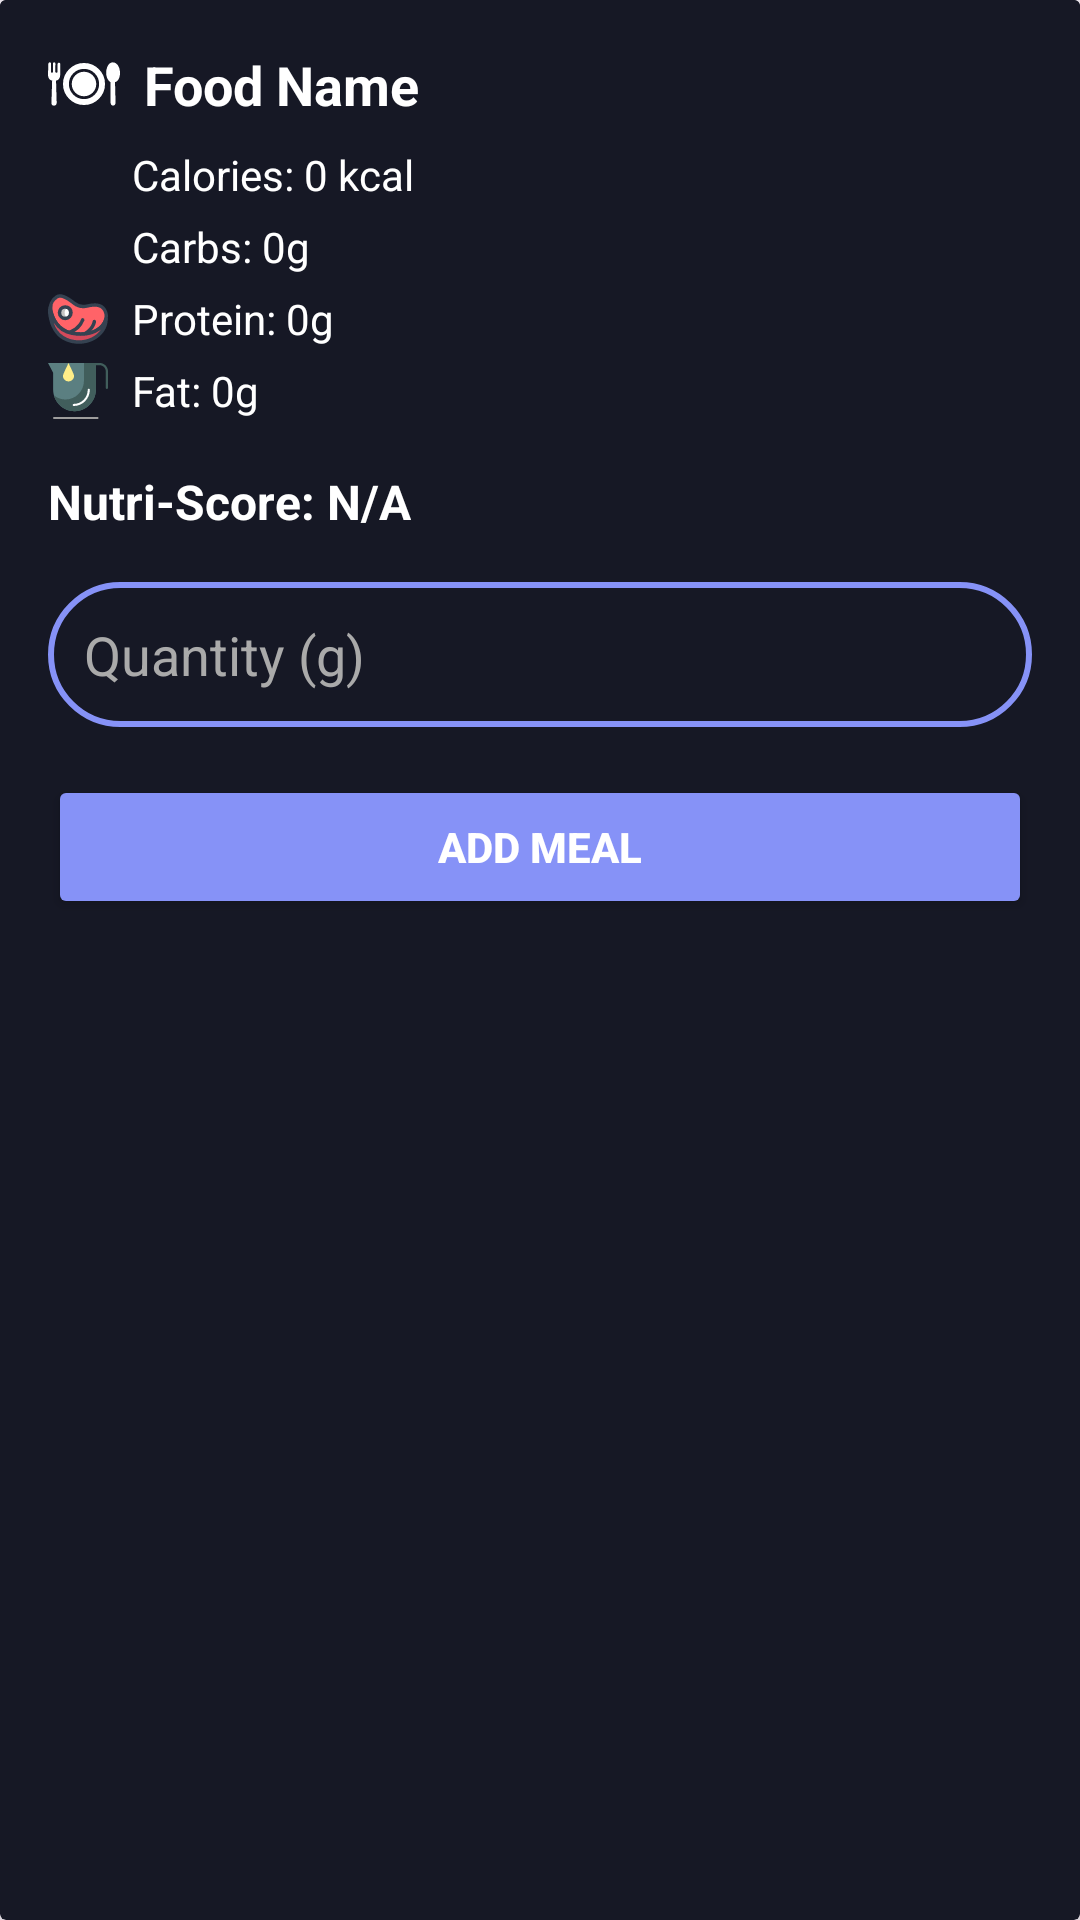

Where icons sit on this 1080×1920 app screen, as [x1=x1, y1=y1, x2=x2, y2=y2]:
food dish: [x1=48, y1=62, x2=120, y2=106]
